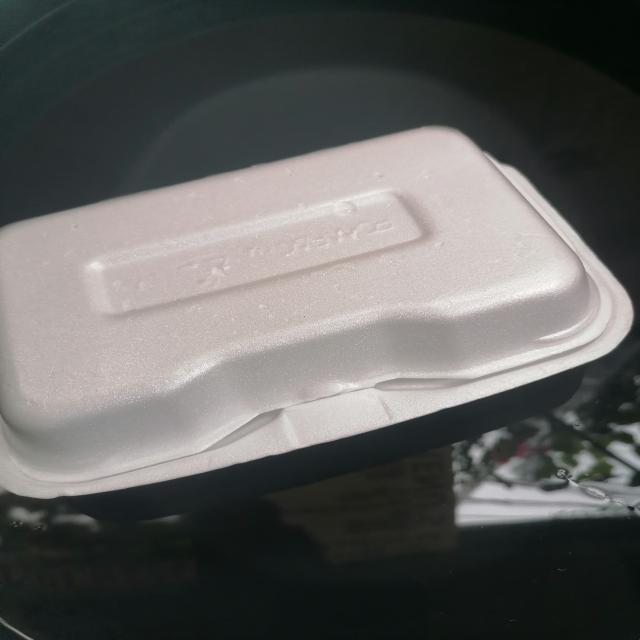Styrofoam Container: (0, 99, 640, 515)
